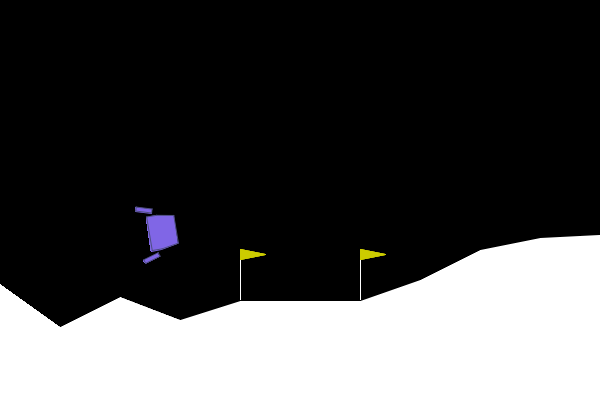lander: (133, 200, 183, 266)
